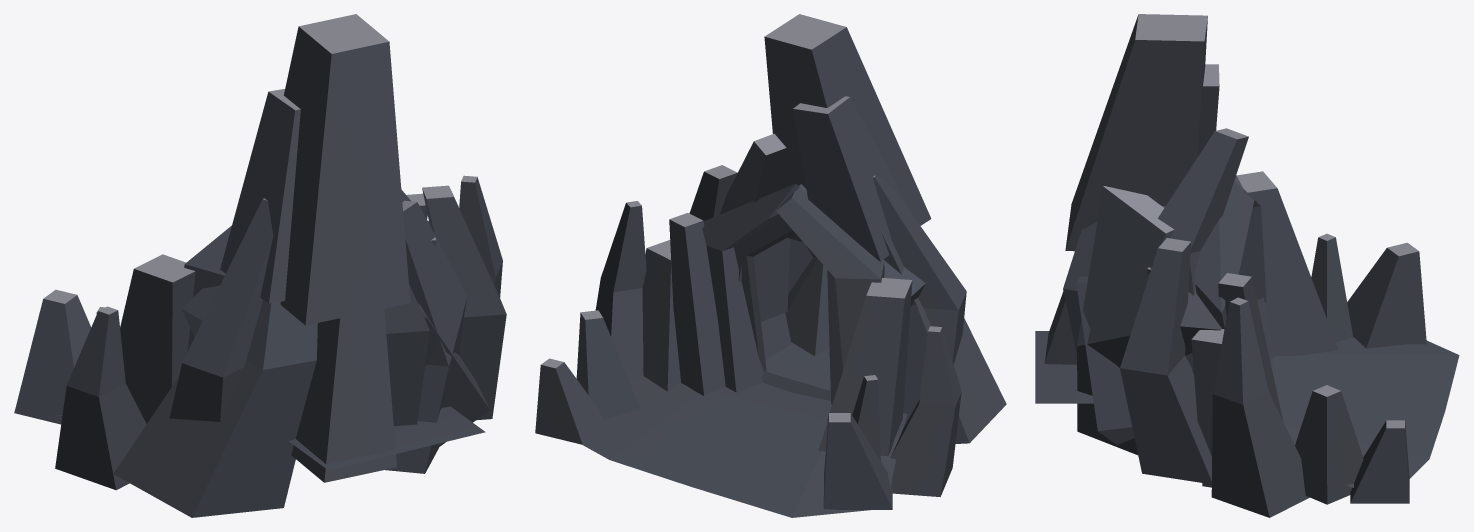
File: asset_entre grote .fbx
The picture shows the model from 3 angles, left to right: view 1: azimuth 30°, elevation 25°; view 2: azimuth 150°, elevation 25°; view 3: azimuth 270°, elevation 25°; orthographic projection. The views are drawn at different scales.
Visible parts, largest first — view 1: entre grote; view 2: entre grote; view 3: entre grote.
Part boxes in pixels (bbox=[...]): entre grote: bbox=[14, 14, 506, 517]; entre grote: bbox=[535, 14, 1006, 517]; entre grote: bbox=[1035, 14, 1459, 517].
Bounding box in the file's own units: 997 × 1003 × 905.
